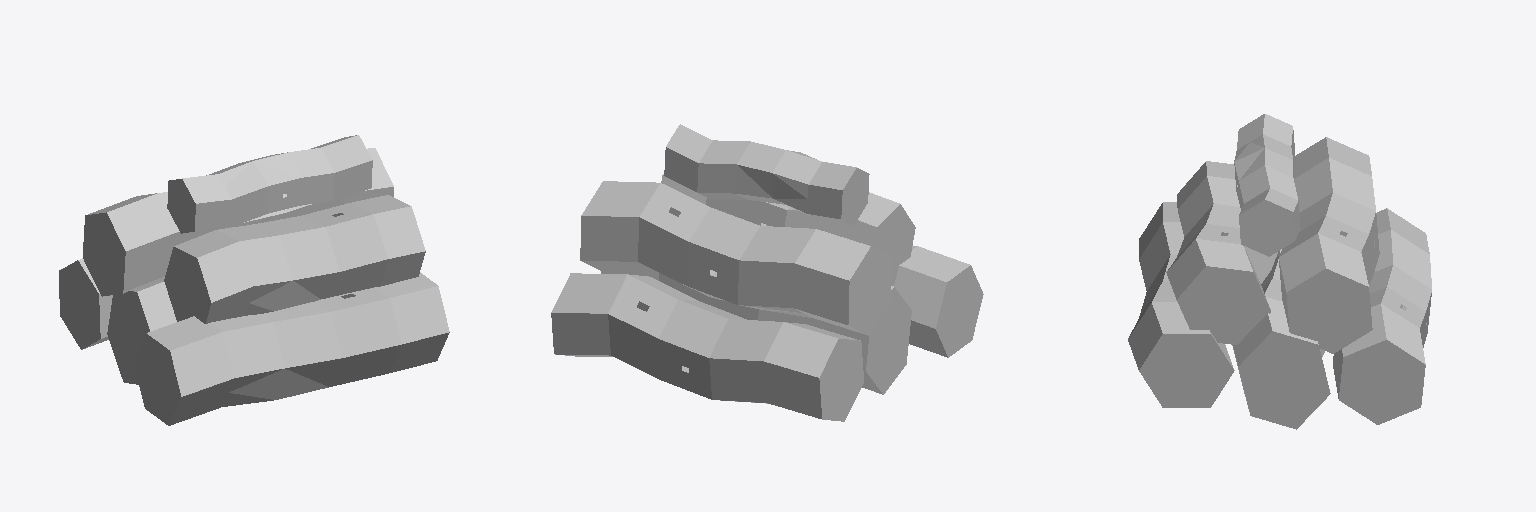
File: logpile.obj
3 renders of one model, left to right at view 1: azimuth 30°, elevation 25°; view 2: azimuth 150°, elevation 25°; view 3: azimuth 270°, elevation 25°, orthographic.
Visible parts, largest first — view 1: i_Cylinder; view 2: i_Cylinder; view 3: i_Cylinder.
Boxes of the visible parts, <box> form: i_Cylinder: <box>59,135,449,425</box>; i_Cylinder: <box>551,124,983,421</box>; i_Cylinder: <box>1128,114,1431,429</box>.
Size of the model in its own units: 7.03 by 4.76 by 6.36.